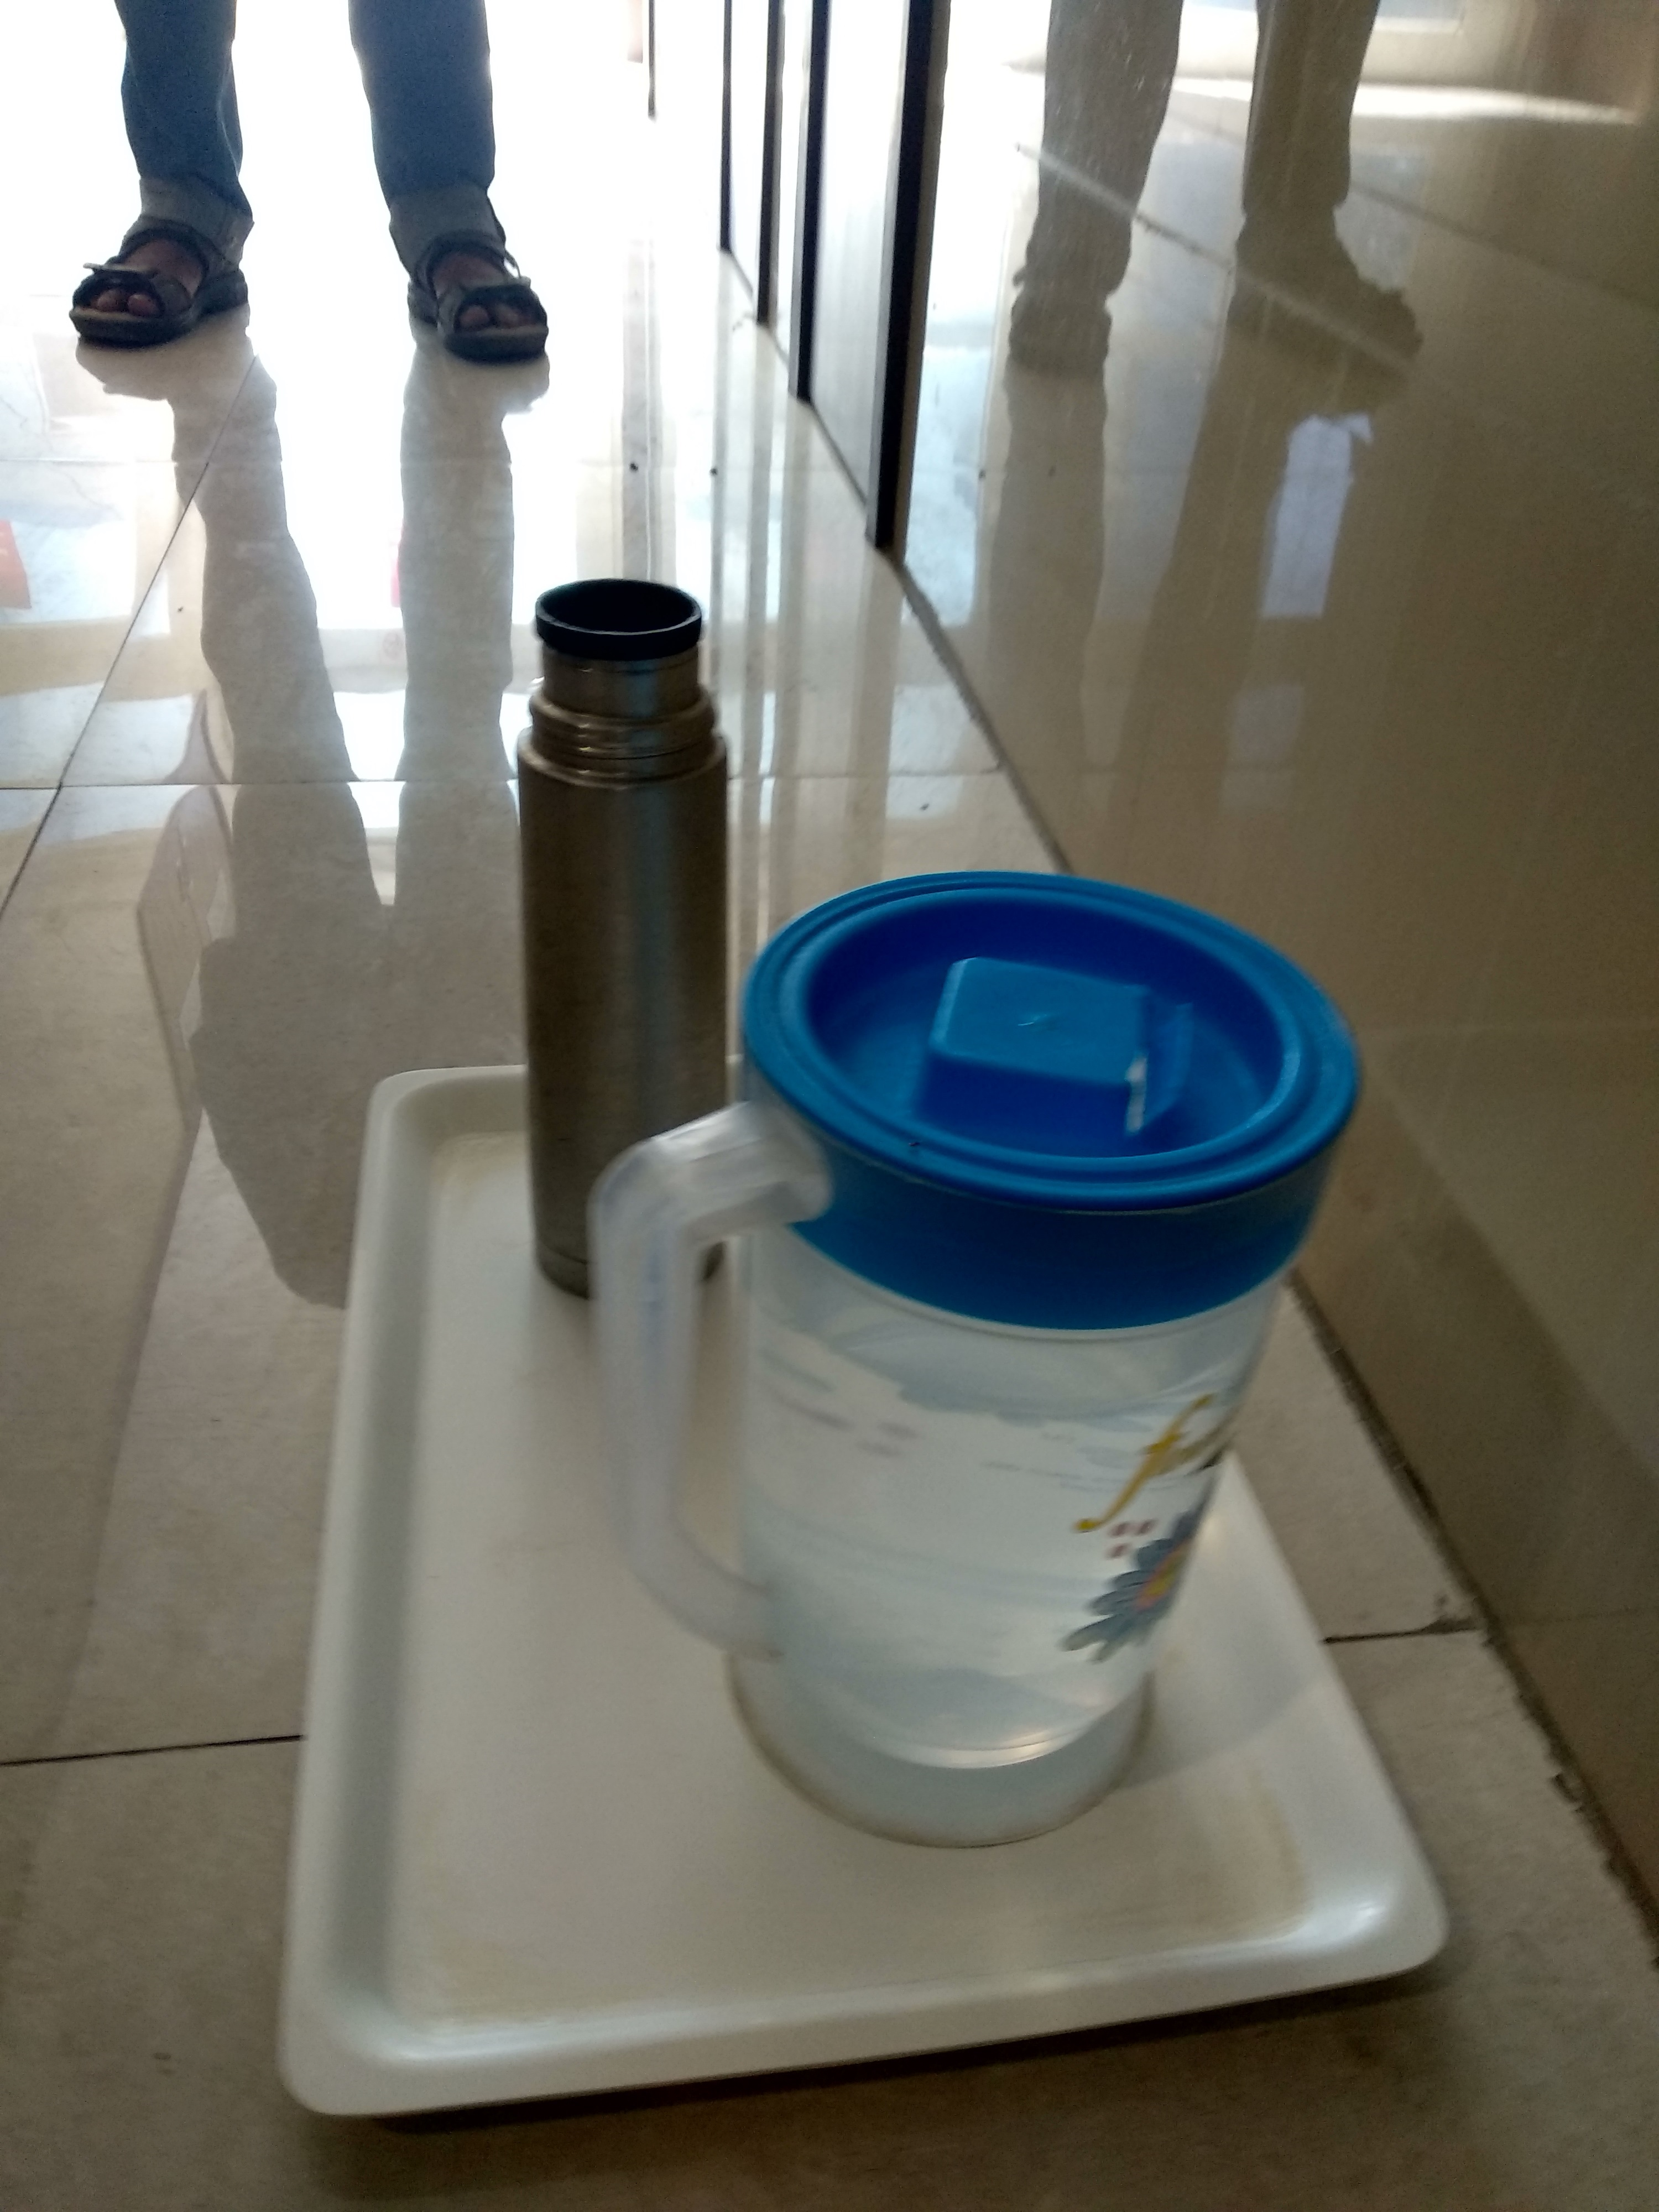FLASK: (469, 542, 765, 1123)
JUG: (591, 840, 1377, 1857)
